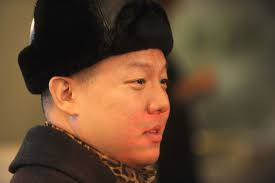asian_male: (38, 4, 194, 170)
